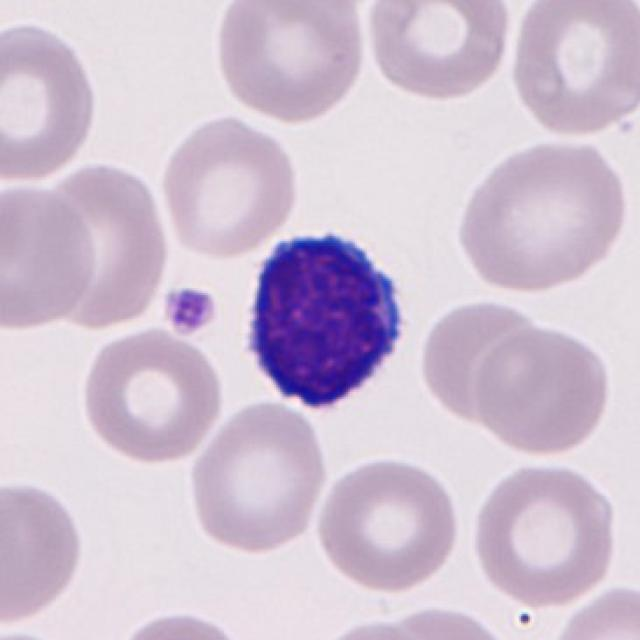Lymphocyte: (232, 219, 418, 418)
Platelets: (161, 283, 222, 338)
RBC: (449, 134, 633, 296), (35, 156, 173, 333), (467, 456, 622, 611), (184, 396, 332, 558), (311, 451, 465, 595), (156, 111, 302, 260), (77, 324, 226, 466), (210, 0, 372, 125), (468, 322, 614, 460), (503, 0, 640, 142), (0, 17, 101, 188), (414, 295, 546, 423), (362, 0, 516, 104), (0, 180, 100, 333), (0, 479, 89, 635), (350, 602, 519, 640), (545, 579, 640, 639), (106, 607, 258, 640), (309, 615, 438, 640)
